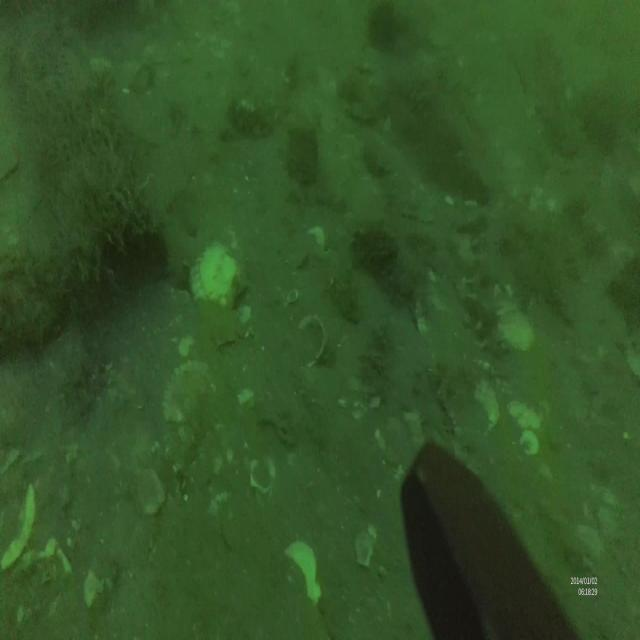scallop: (189, 239, 249, 320)
